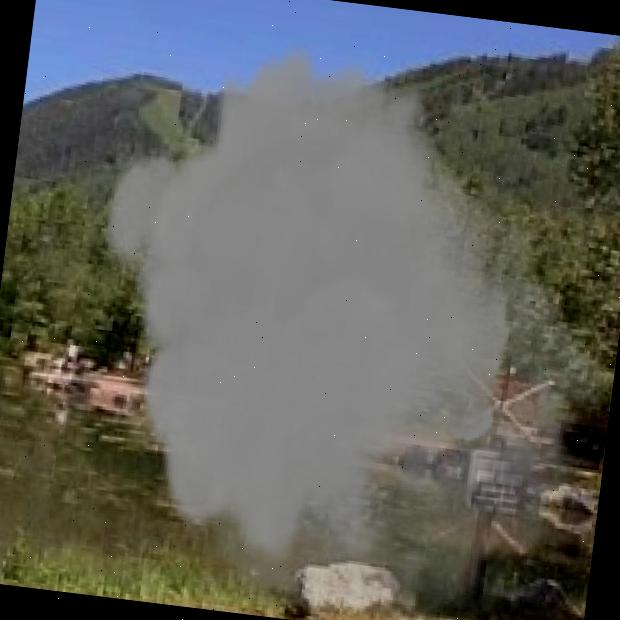smoke: (56, 21, 620, 620)
